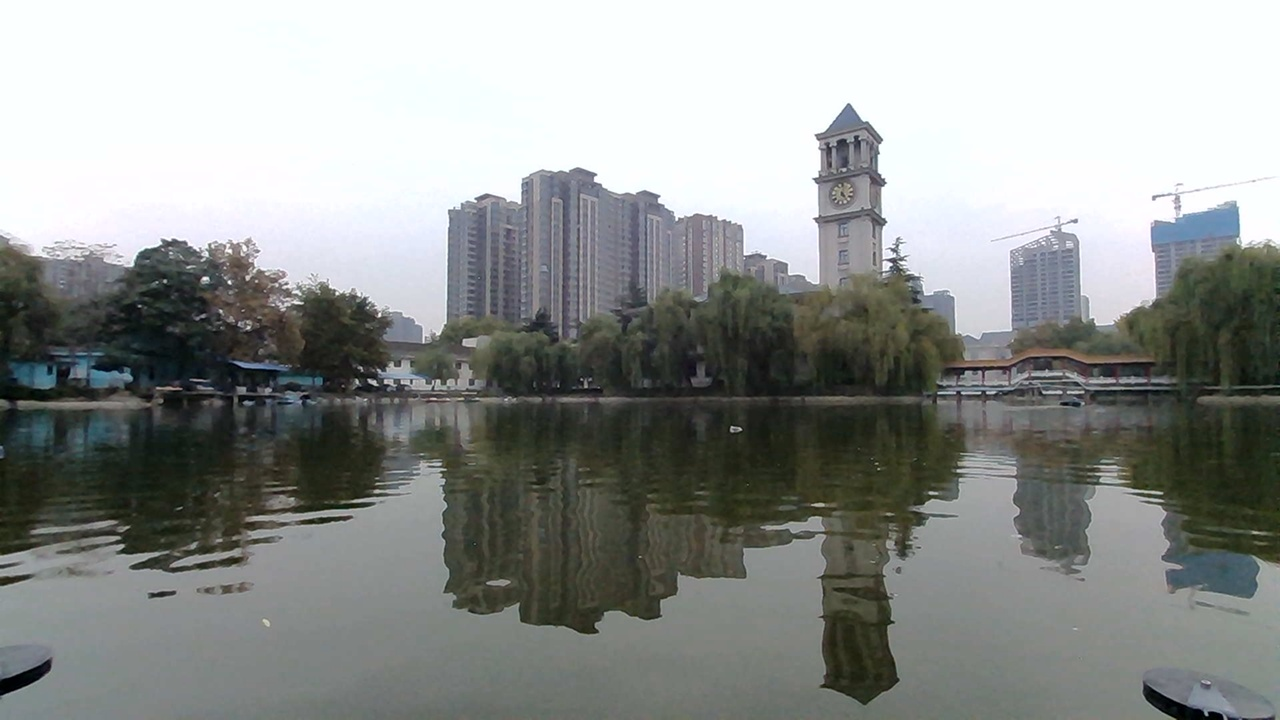bottle: (714, 412, 753, 442)
